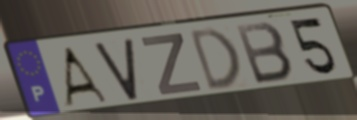5: (286, 17, 339, 77)
A: (62, 44, 111, 108)
B: (232, 20, 296, 86)
D: (187, 25, 245, 94)
V: (92, 35, 140, 103)
Z: (138, 32, 206, 98)
